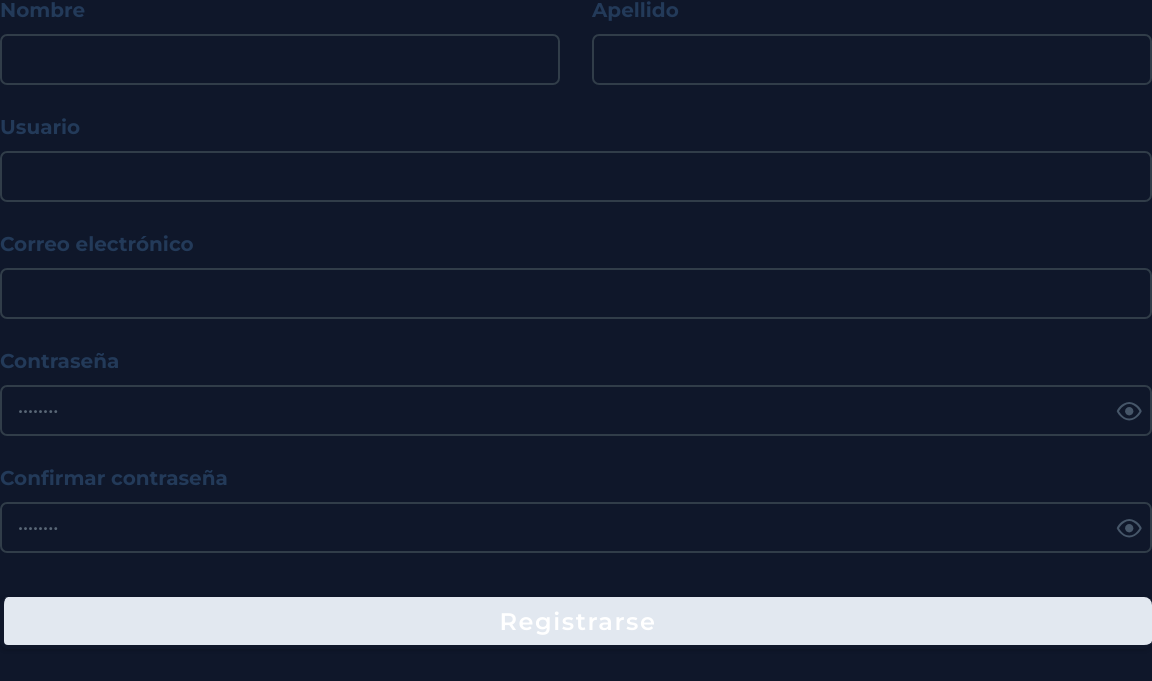
Test: RegisterForm - Component Unit Tests › Form Submissions & Form Action Pipeline › should render a global failure alert banner if the action state resolution returns a global error key
Type "dup@email.com" into the field labelled "Correo electrónico" at {"x": 576, "y": 294}, box x1=2 y1=270 x2=1150 y2=317
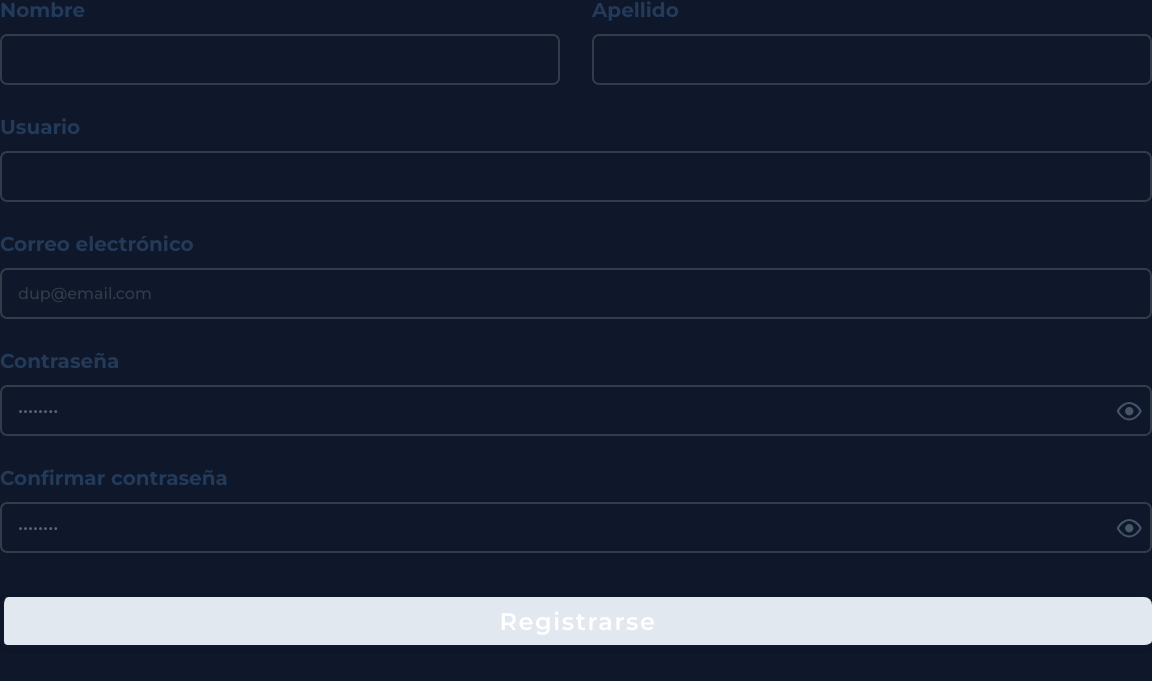
Click the button "Registrarse" at {"x": 576, "y": 623}, box x1=0 y1=597 x2=1151 y2=649
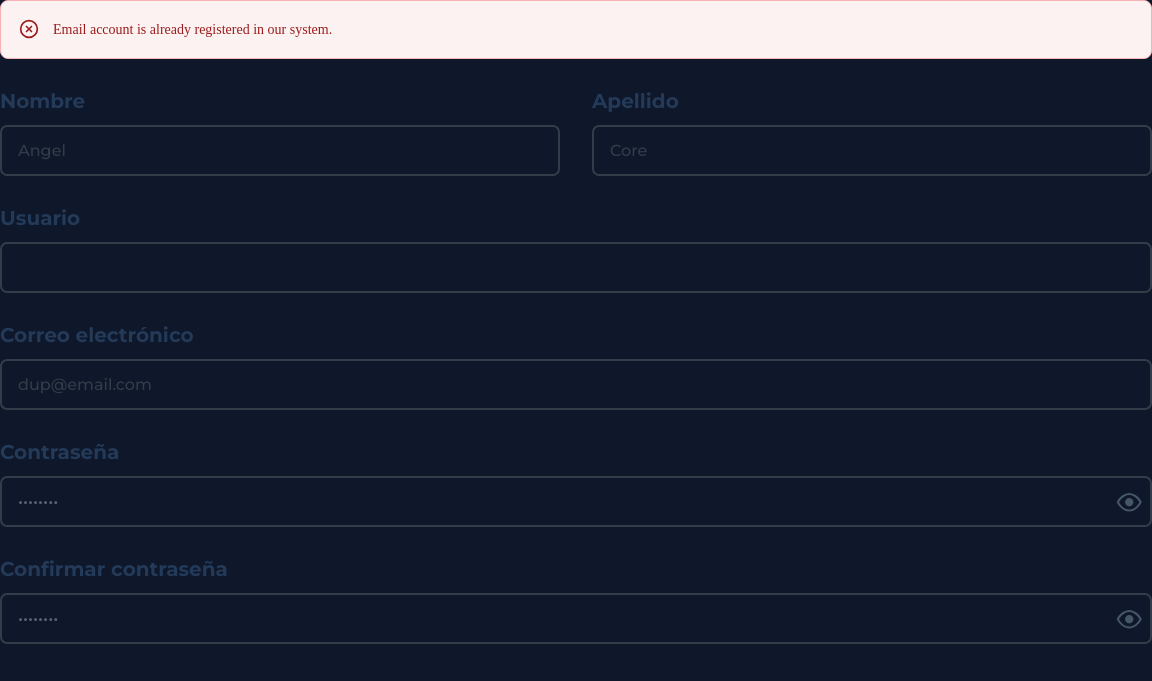
Result: the text "Email account is already registered in our system." is shown at x1=53 y1=19 x2=332 y2=40
